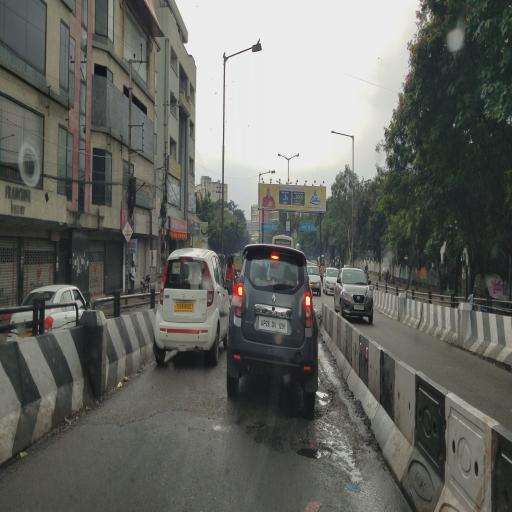street_light_0: (222, 32, 262, 60), (328, 115, 356, 145), (287, 147, 303, 169), (271, 147, 288, 166), (257, 162, 274, 180)
